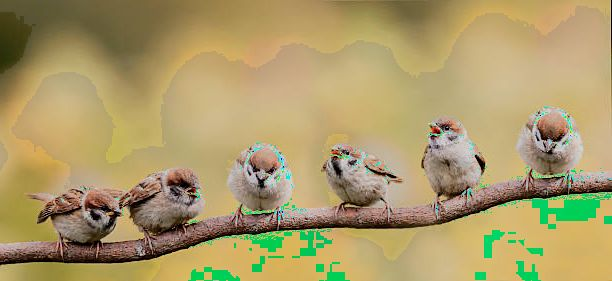Bird: (19, 186, 124, 257), (315, 135, 402, 218), (121, 164, 202, 251), (420, 113, 487, 217), (512, 104, 584, 197), (223, 139, 292, 231)
